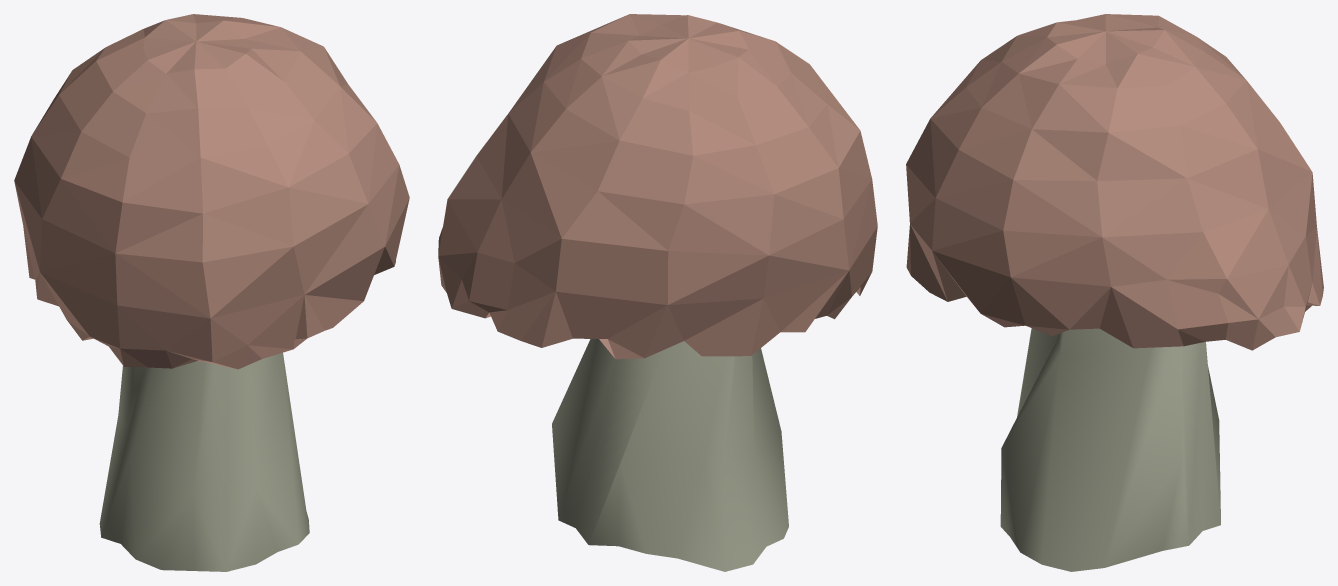
Rendered from spore6.fbx.
The picture shows the model from 3 angles, left to right: view 1: azimuth 30°, elevation 25°; view 2: azimuth 150°, elevation 25°; view 3: azimuth 270°, elevation 25°; orthographic projection.
Parts seen in each view (by area): view 1: pSphere5, pCylinder2; view 2: pSphere5, pCylinder2; view 3: pSphere5, pCylinder2.
Boxes of the visible parts, box(x1,y1,x2,y2) form: pSphere5: box(14, 14, 409, 369); pCylinder2: box(99, 352, 309, 571); pSphere5: box(438, 14, 877, 359); pCylinder2: box(552, 339, 788, 571); pSphere5: box(906, 14, 1323, 350); pCylinder2: box(1000, 328, 1220, 571).
Bounding box in the file's own units: 4.24 × 5.61 × 4.3.
